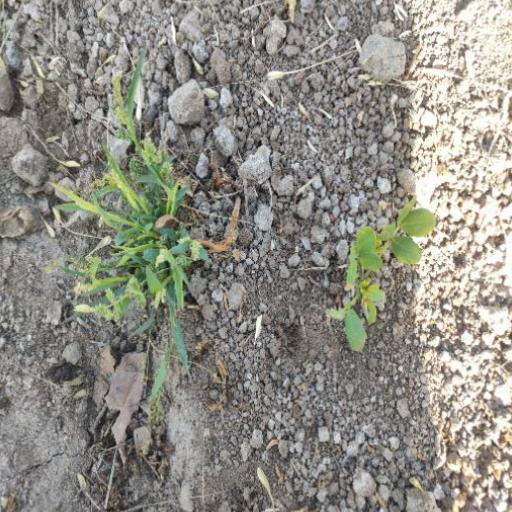weed: (45, 71, 224, 351), (316, 190, 425, 365)
